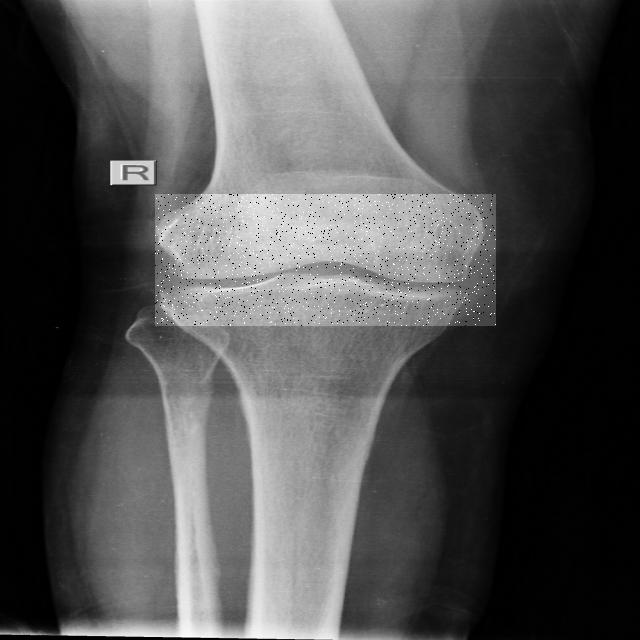osteo: (155, 194, 496, 326)
